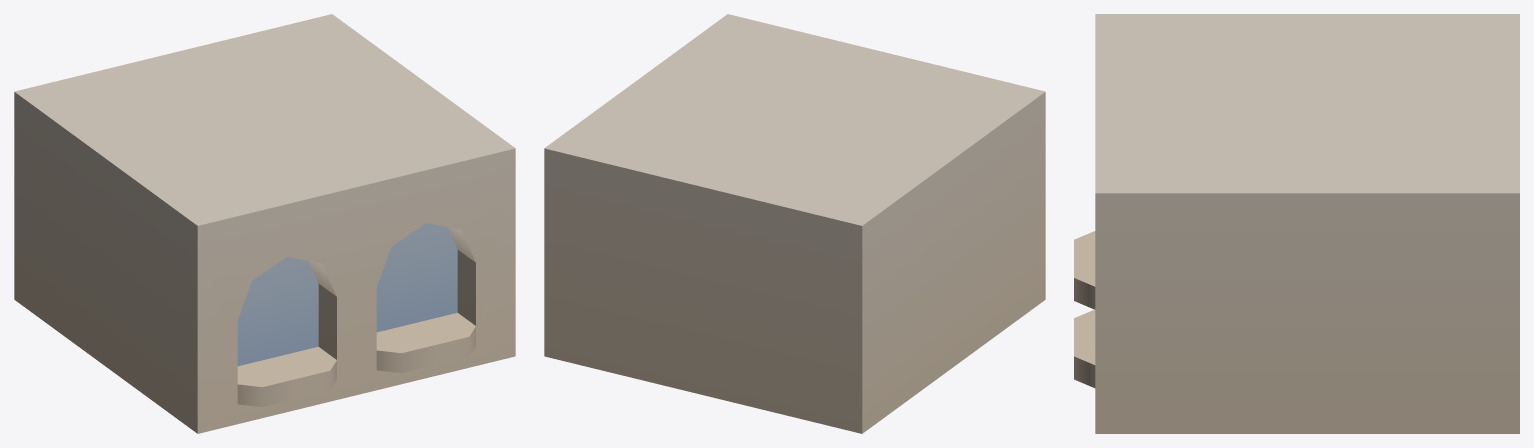
The model's file is building-windows-sills-round.glb.
3 renders of one model, left to right at view 1: azimuth 30°, elevation 25°; view 2: azimuth 150°, elevation 25°; view 3: azimuth 270°, elevation 25°, orthographic. The views are drawn at different scales.
Parts seen in each view (by area): view 1: building-windows-sills-round; view 2: building-windows-sills-round; view 3: building-windows-sills-round.
Boxes of the visible parts, <box> form: building-windows-sills-round: <box>14,14,515,433</box>; building-windows-sills-round: <box>544,14,1045,433</box>; building-windows-sills-round: <box>1074,14,1519,433</box>.
Bounding box in the file's own units: 1 × 0.625 × 1.05.
